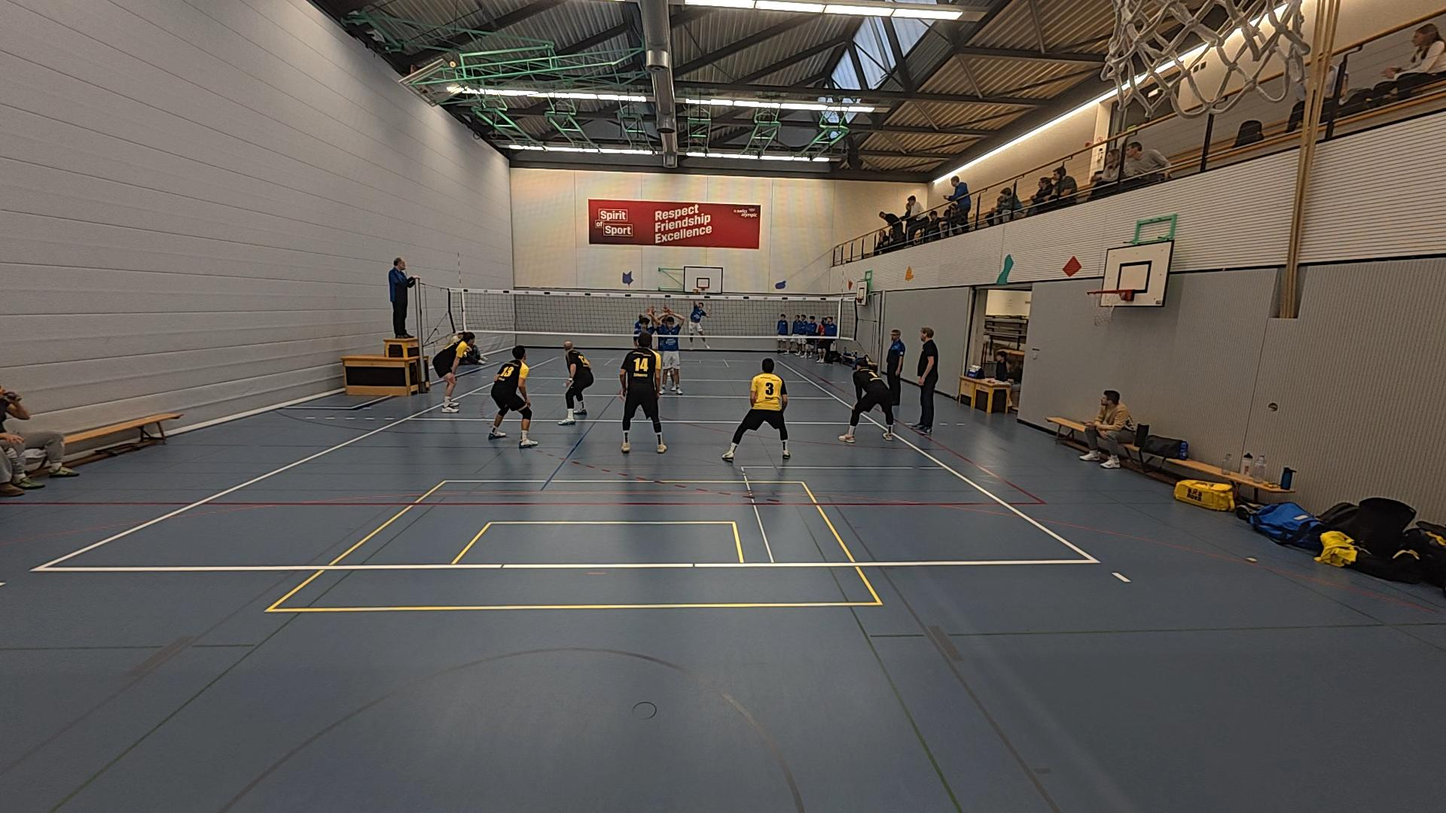Player: (723, 360, 792, 460), (619, 337, 666, 452), (488, 346, 539, 446), (839, 354, 893, 443), (435, 329, 480, 413), (652, 304, 683, 394), (560, 344, 594, 425), (633, 308, 653, 347)
Serve: (686, 297, 708, 349)
ball: (901, 265, 917, 280), (692, 283, 703, 298)
